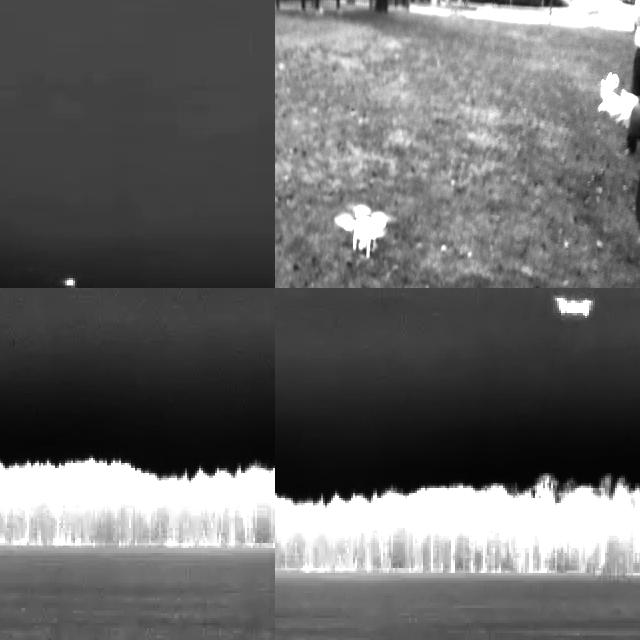0: (57, 267, 85, 288)
1: (546, 290, 606, 326)
drone: (342, 201, 391, 256)
